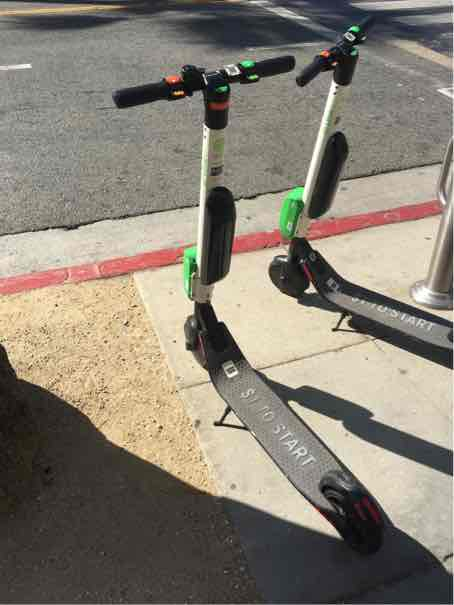scooter: (119, 46, 387, 564), (269, 19, 448, 370)
